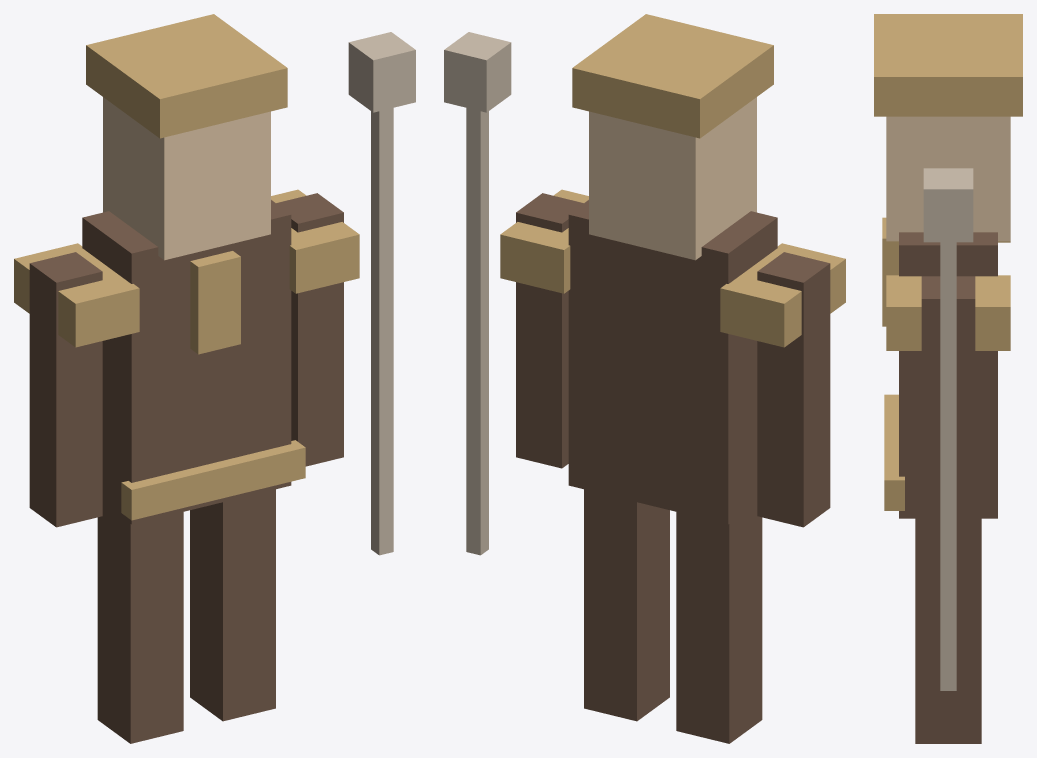
File: 16_tamsin_dubwater_pilgrim_at_rhyme.glb
3 views of the same model, side by side, from view 1: azimuth 30°, elevation 25°; view 2: azimuth 150°, elevation 25°; view 3: azimuth 270°, elevation 25° (orthographic).
Visible parts, largest first — view 1: Tamsin Dubwater, Pilgrim at Rhyme; view 2: Tamsin Dubwater, Pilgrim at Rhyme; view 3: Tamsin Dubwater, Pilgrim at Rhyme.
Boxes of the visible parts, x1=… form: Tamsin Dubwater, Pilgrim at Rhyme: x1=14, y1=14, x2=415, y2=743; Tamsin Dubwater, Pilgrim at Rhyme: x1=444, y1=14, x2=845, y2=743; Tamsin Dubwater, Pilgrim at Rhyme: x1=874, y1=14, x2=1022, y2=743.
Size of the model in its own units: 0.9485 by 1.65 by 0.3364.
